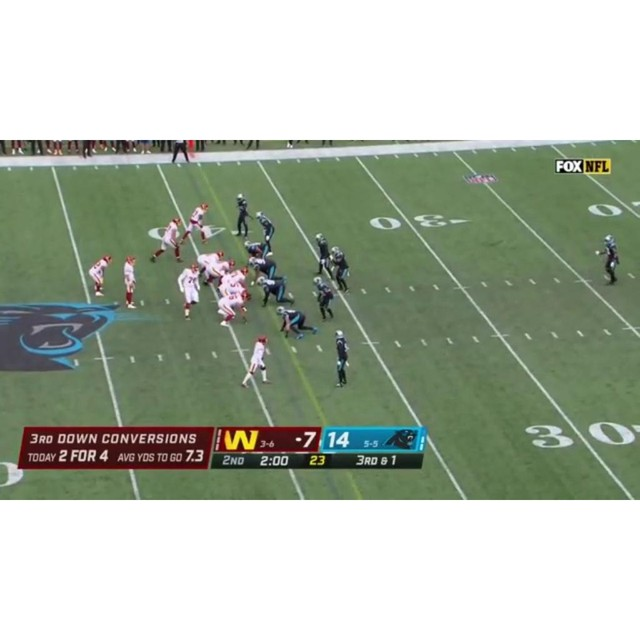american-football-player: (241, 335, 271, 388), (151, 218, 183, 263), (275, 306, 316, 340), (178, 263, 202, 320), (595, 234, 621, 286), (217, 290, 251, 327), (181, 203, 210, 244), (257, 278, 294, 308), (329, 246, 351, 293), (248, 256, 282, 286), (313, 277, 336, 321), (333, 329, 350, 388), (89, 254, 112, 297), (255, 212, 276, 254), (314, 232, 333, 278), (123, 254, 138, 308), (234, 193, 251, 238), (243, 241, 270, 264)
